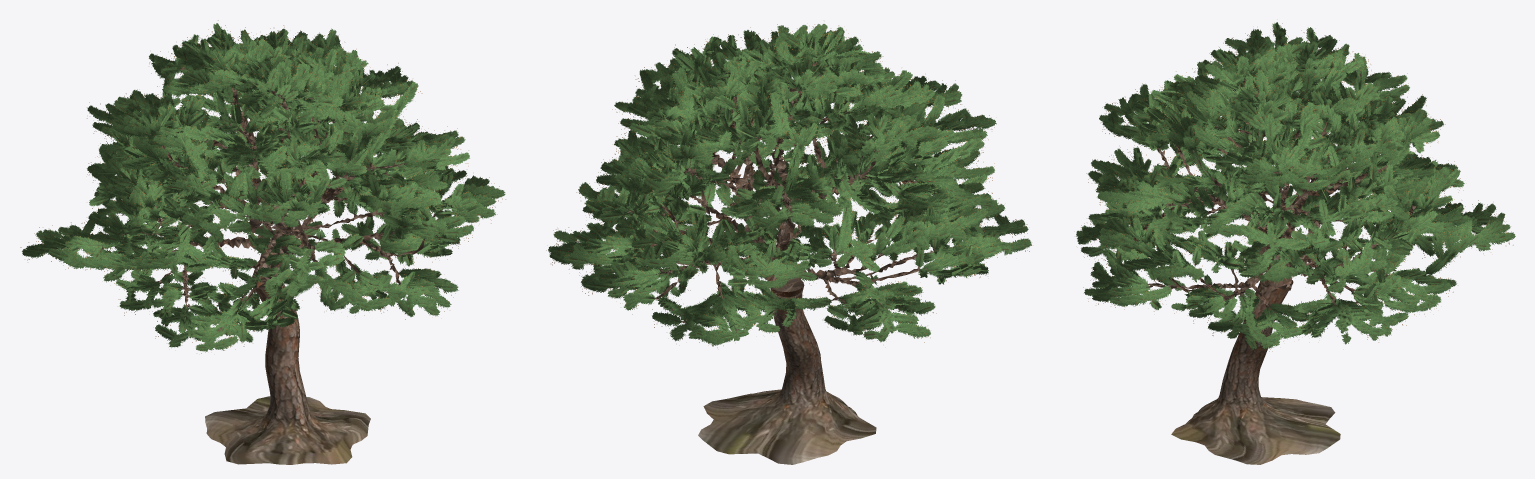
The model's file is pine.glb.
The picture shows the model from 3 angles, left to right: view 1: azimuth 30°, elevation 25°; view 2: azimuth 150°, elevation 25°; view 3: azimuth 270°, elevation 25°; orthographic projection. The views are drawn at different scales.
Visible parts, largest first — view 1: Foliage, Trunk, Branches; view 2: Foliage, Trunk, Branches; view 3: Foliage, Trunk, Branches.
Part boxes in pixels (<box>): Foliage: <box>20,20,505,353</box>; Trunk: <box>205,276,370,464</box>; Branches: <box>61,67,453,331</box>; Foliage: <box>546,24,1031,347</box>; Trunk: <box>698,281,876,464</box>; Branches: <box>611,62,986,334</box>; Foliage: <box>1076,22,1515,353</box>; Trunk: <box>1171,280,1340,464</box>; Branches: <box>1115,72,1493,320</box>.
Size of the model in its own units: 6.22 by 5.9 by 6.54.
3 materials, 3 textured.
